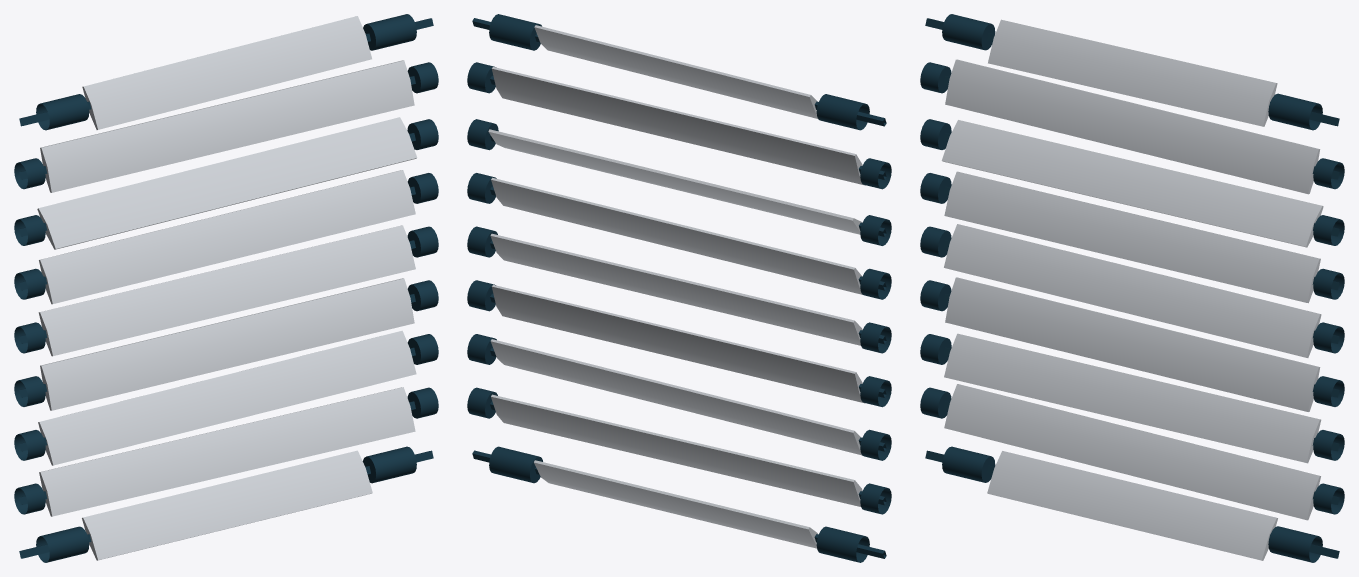
Rendered from W1_WallWindow1_2m_Shutters.fbx.
The picture shows the model from 3 angles, left to right: view 1: azimuth 30°, elevation 25°; view 2: azimuth 150°, elevation 25°; view 3: azimuth 330°, elevation 25°; orthographic projection.
Parts seen in each view (by area): view 1: W1_WallWindow1_2m_Shutters.001; view 2: W1_WallWindow1_2m_Shutters.001; view 3: W1_WallWindow1_2m_Shutters.001.
Boxes of the visible parts, bbox=[...] form: W1_WallWindow1_2m_Shutters.001: bbox=[14, 14, 438, 562]; W1_WallWindow1_2m_Shutters.001: bbox=[467, 14, 891, 562]; W1_WallWindow1_2m_Shutters.001: bbox=[920, 14, 1344, 562].
Bounding box in the file's own units: 1.52 × 1.65 × 0.1242.
